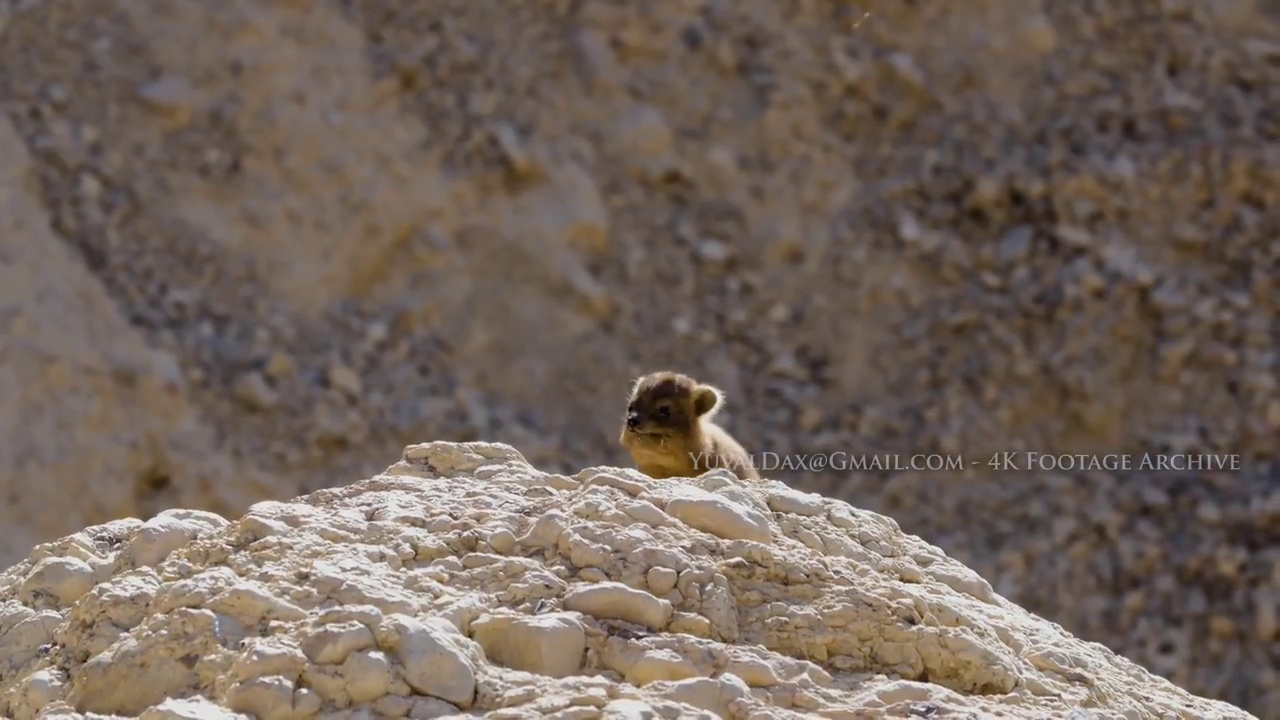Rock Hyrex: (616, 367, 759, 484)
